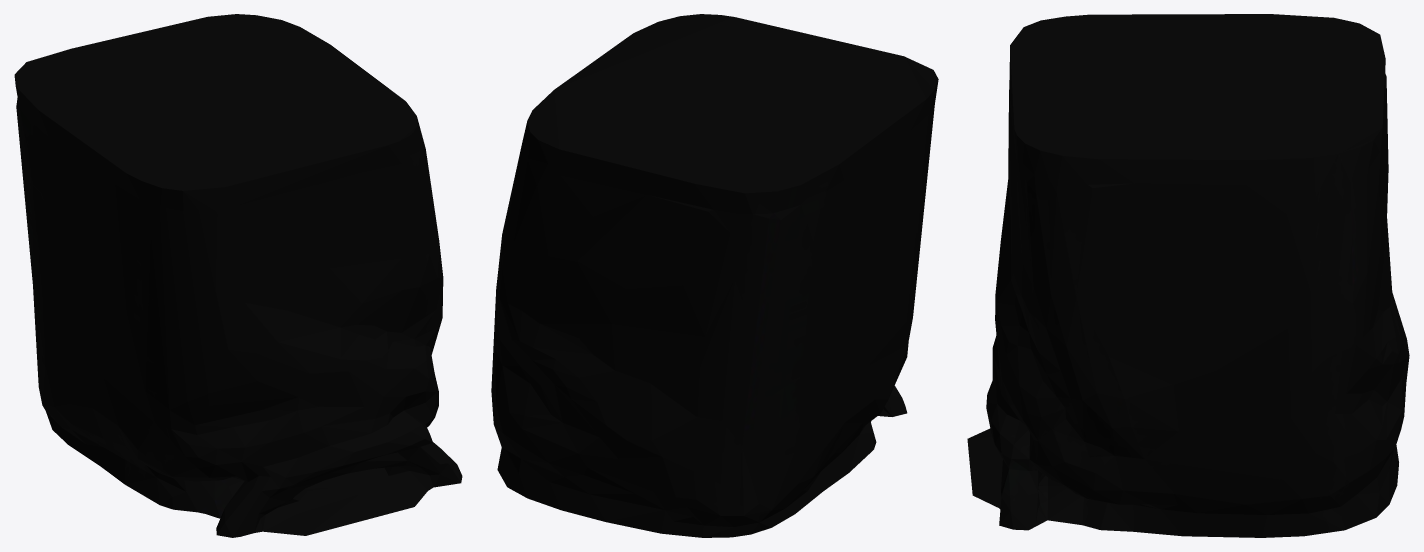
The model's file is LeftLowerLeg.glb.
3 renders of one model, left to right at view 1: azimuth 30°, elevation 25°; view 2: azimuth 150°, elevation 25°; view 3: azimuth 270°, elevation 25°, orthographic. The views are drawn at different scales.
Visible parts, largest first — view 1: LeftLowerLeg; view 2: LeftLowerLeg; view 3: LeftLowerLeg.
Part boxes in pixels (<box>): LeftLowerLeg: <box>14,14,462,537</box>; LeftLowerLeg: <box>491,14,938,537</box>; LeftLowerLeg: <box>967,14,1409,537</box>.
Bounding box in the file's own units: 1.24 × 1.28 × 1.41.
1 material, 1 textured.
